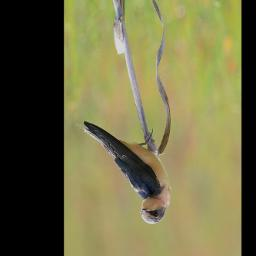Swallow: (74, 115, 171, 230)
